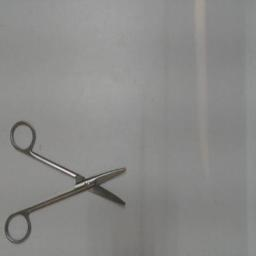Curved Mayo Scissors: (3, 116, 129, 246)
